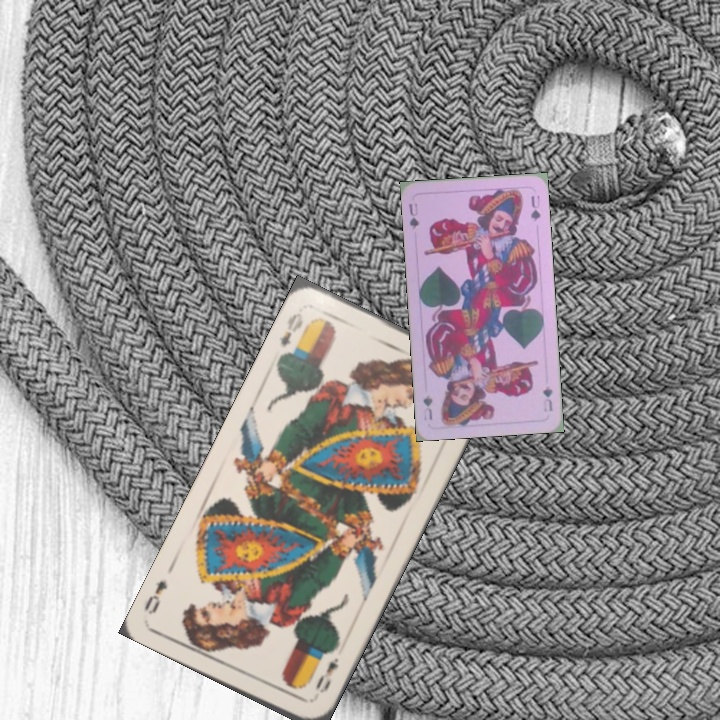EO: (311, 653, 342, 696), (275, 308, 306, 350)
GU: (405, 199, 422, 232), (539, 382, 555, 414)
